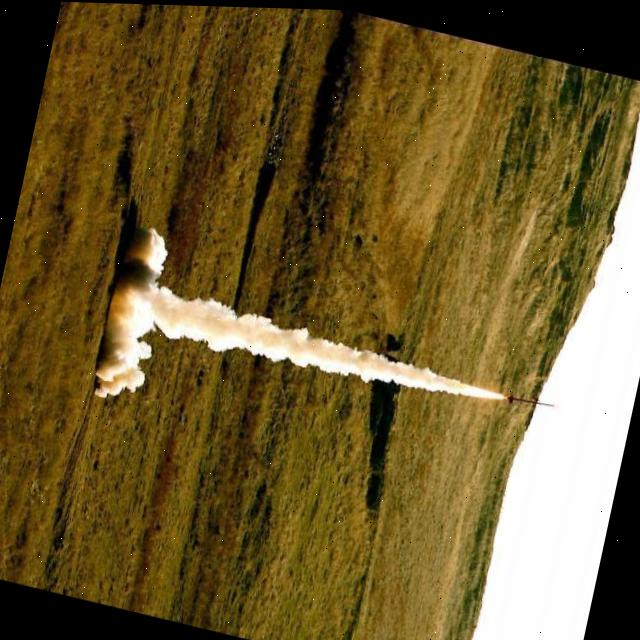missile: (504, 384, 556, 411)
